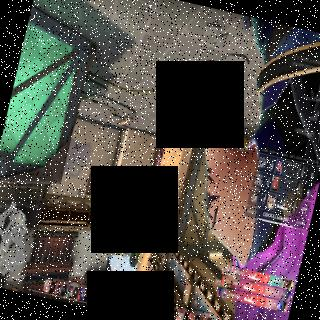ENEMY-BODY: (155, 140, 166, 167)
ENEMY-HEAD: (156, 161, 160, 166)
